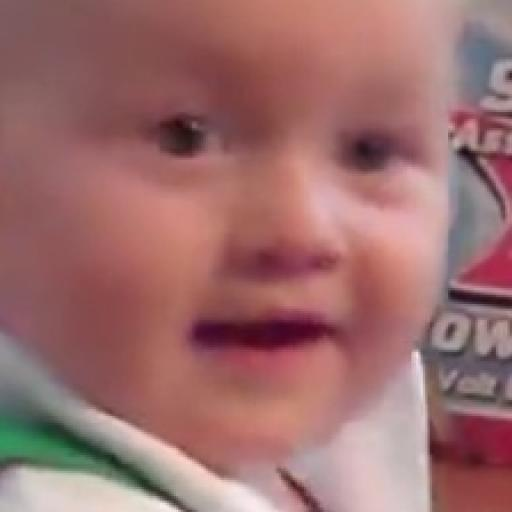Autism: (52, 23, 512, 474)
